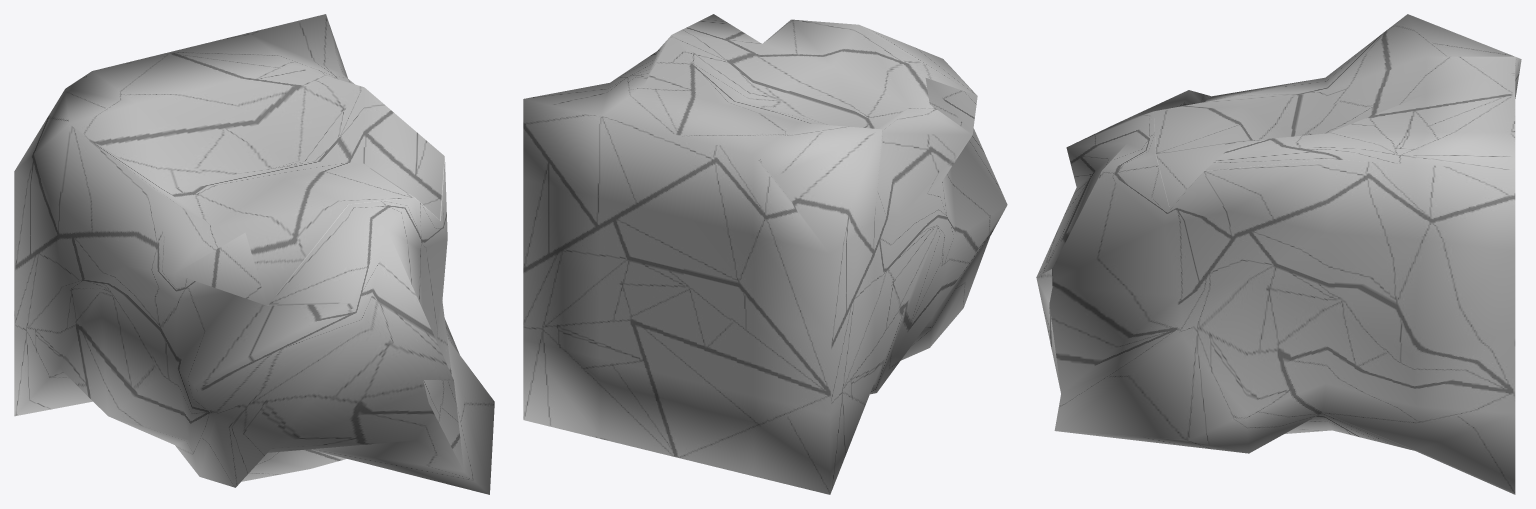
Rendered from stone.fbx.
3 views of the same model, side by side, from view 1: azimuth 30°, elevation 25°; view 2: azimuth 150°, elevation 25°; view 3: azimuth 270°, elevation 25° (orthographic).
Parts seen in each view (by area): view 1: Cube_001; view 2: Cube_001; view 3: Cube_001.
Part boxes in pixels (left/top/right/bottom): Cube_001: left=14, top=14, right=494, bottom=494; Cube_001: left=523, top=14, right=1007, bottom=494; Cube_001: left=1036, top=14, right=1521, bottom=494.
Size of the model in its own units: 2.12 by 2.06 by 2.71.
1 material, 1 textured.
